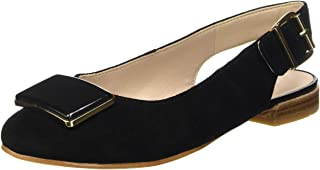shoes: (1, 1, 320, 169)
